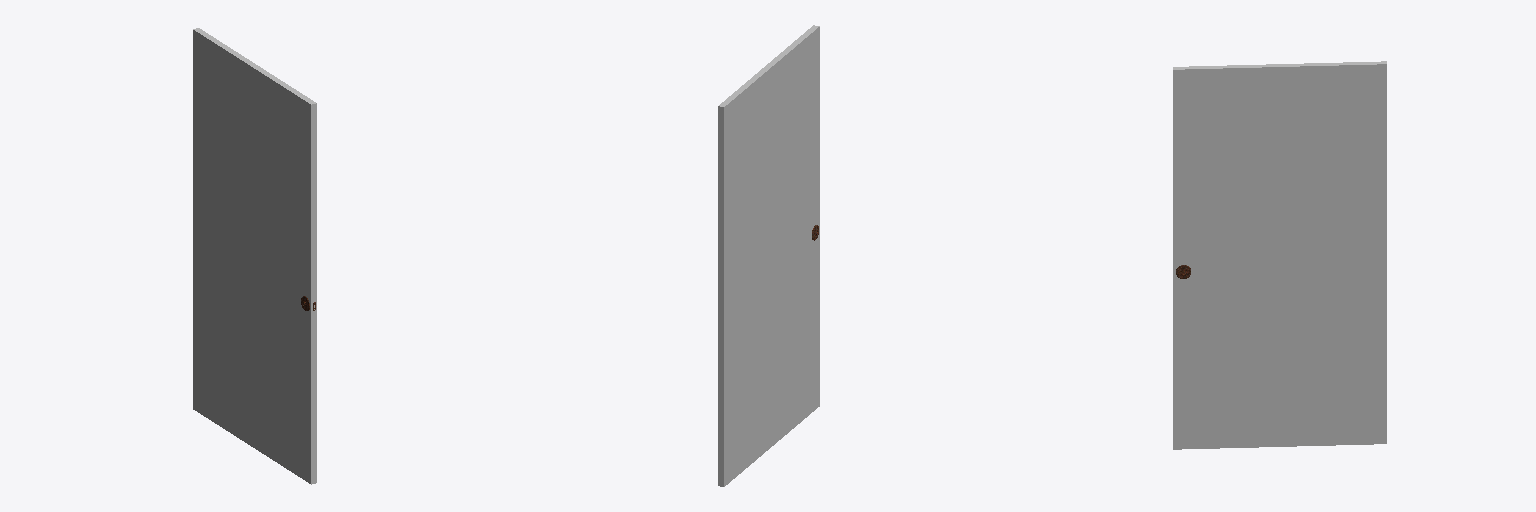
3 renders of one model, left to right at view 1: azimuth 30°, elevation 25°; view 2: azimuth 150°, elevation 25°; view 3: azimuth 270°, elevation 25°, orthographic.
Parts seen in each view (by area): view 1: Door; view 2: Door; view 3: Door.
Part boxes in pixels (bbox=[...]): Door: bbox=[193, 28, 316, 484]; Door: bbox=[718, 25, 819, 486]; Door: bbox=[1173, 61, 1386, 449].
Size of the model in its own units: 0.23 by 4.36 by 2.23.
Materials: 2 (1 with a texture image).